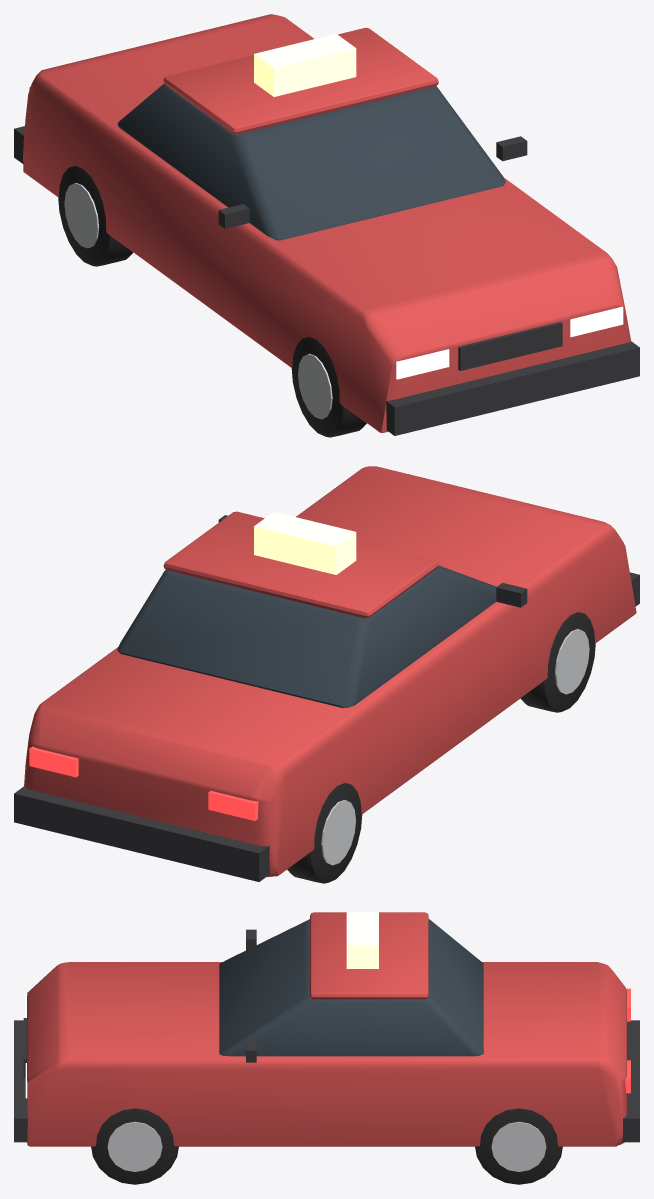
The model's file is car_taxi.glb.
3 renders of one model, top to bottom at view 1: azimuth 30°, elevation 25°; view 2: azimuth 150°, elevation 25°; view 3: azimuth 270°, elevation 25°, orthographic. The views are drawn at different scales.
Visible parts, largest first — view 1: body, wheel_fr, wheel_rr; view 2: body, wheel_fr, wheel_rr; view 3: body, wheel_fl, wheel_rl.
Boxes of the visible parts, left/top/right/bottom form: body: left=14, top=14, right=639, bottom=435; wheel_fr: left=291, top=337, right=366, bottom=437; wheel_rr: left=58, top=166, right=133, bottom=266; body: left=14, top=466, right=639, bottom=881; wheel_fr: left=520, top=612, right=595, bottom=712; wheel_rr: left=287, top=783, right=362, bottom=883; body: left=14, top=912, right=639, bottom=1146; wheel_fl: left=91, top=1108, right=178, bottom=1184; wheel_rl: left=475, top=1108, right=562, bottom=1184.
Bounding box in the file's own units: 2.2 × 1.75 × 4.8.
